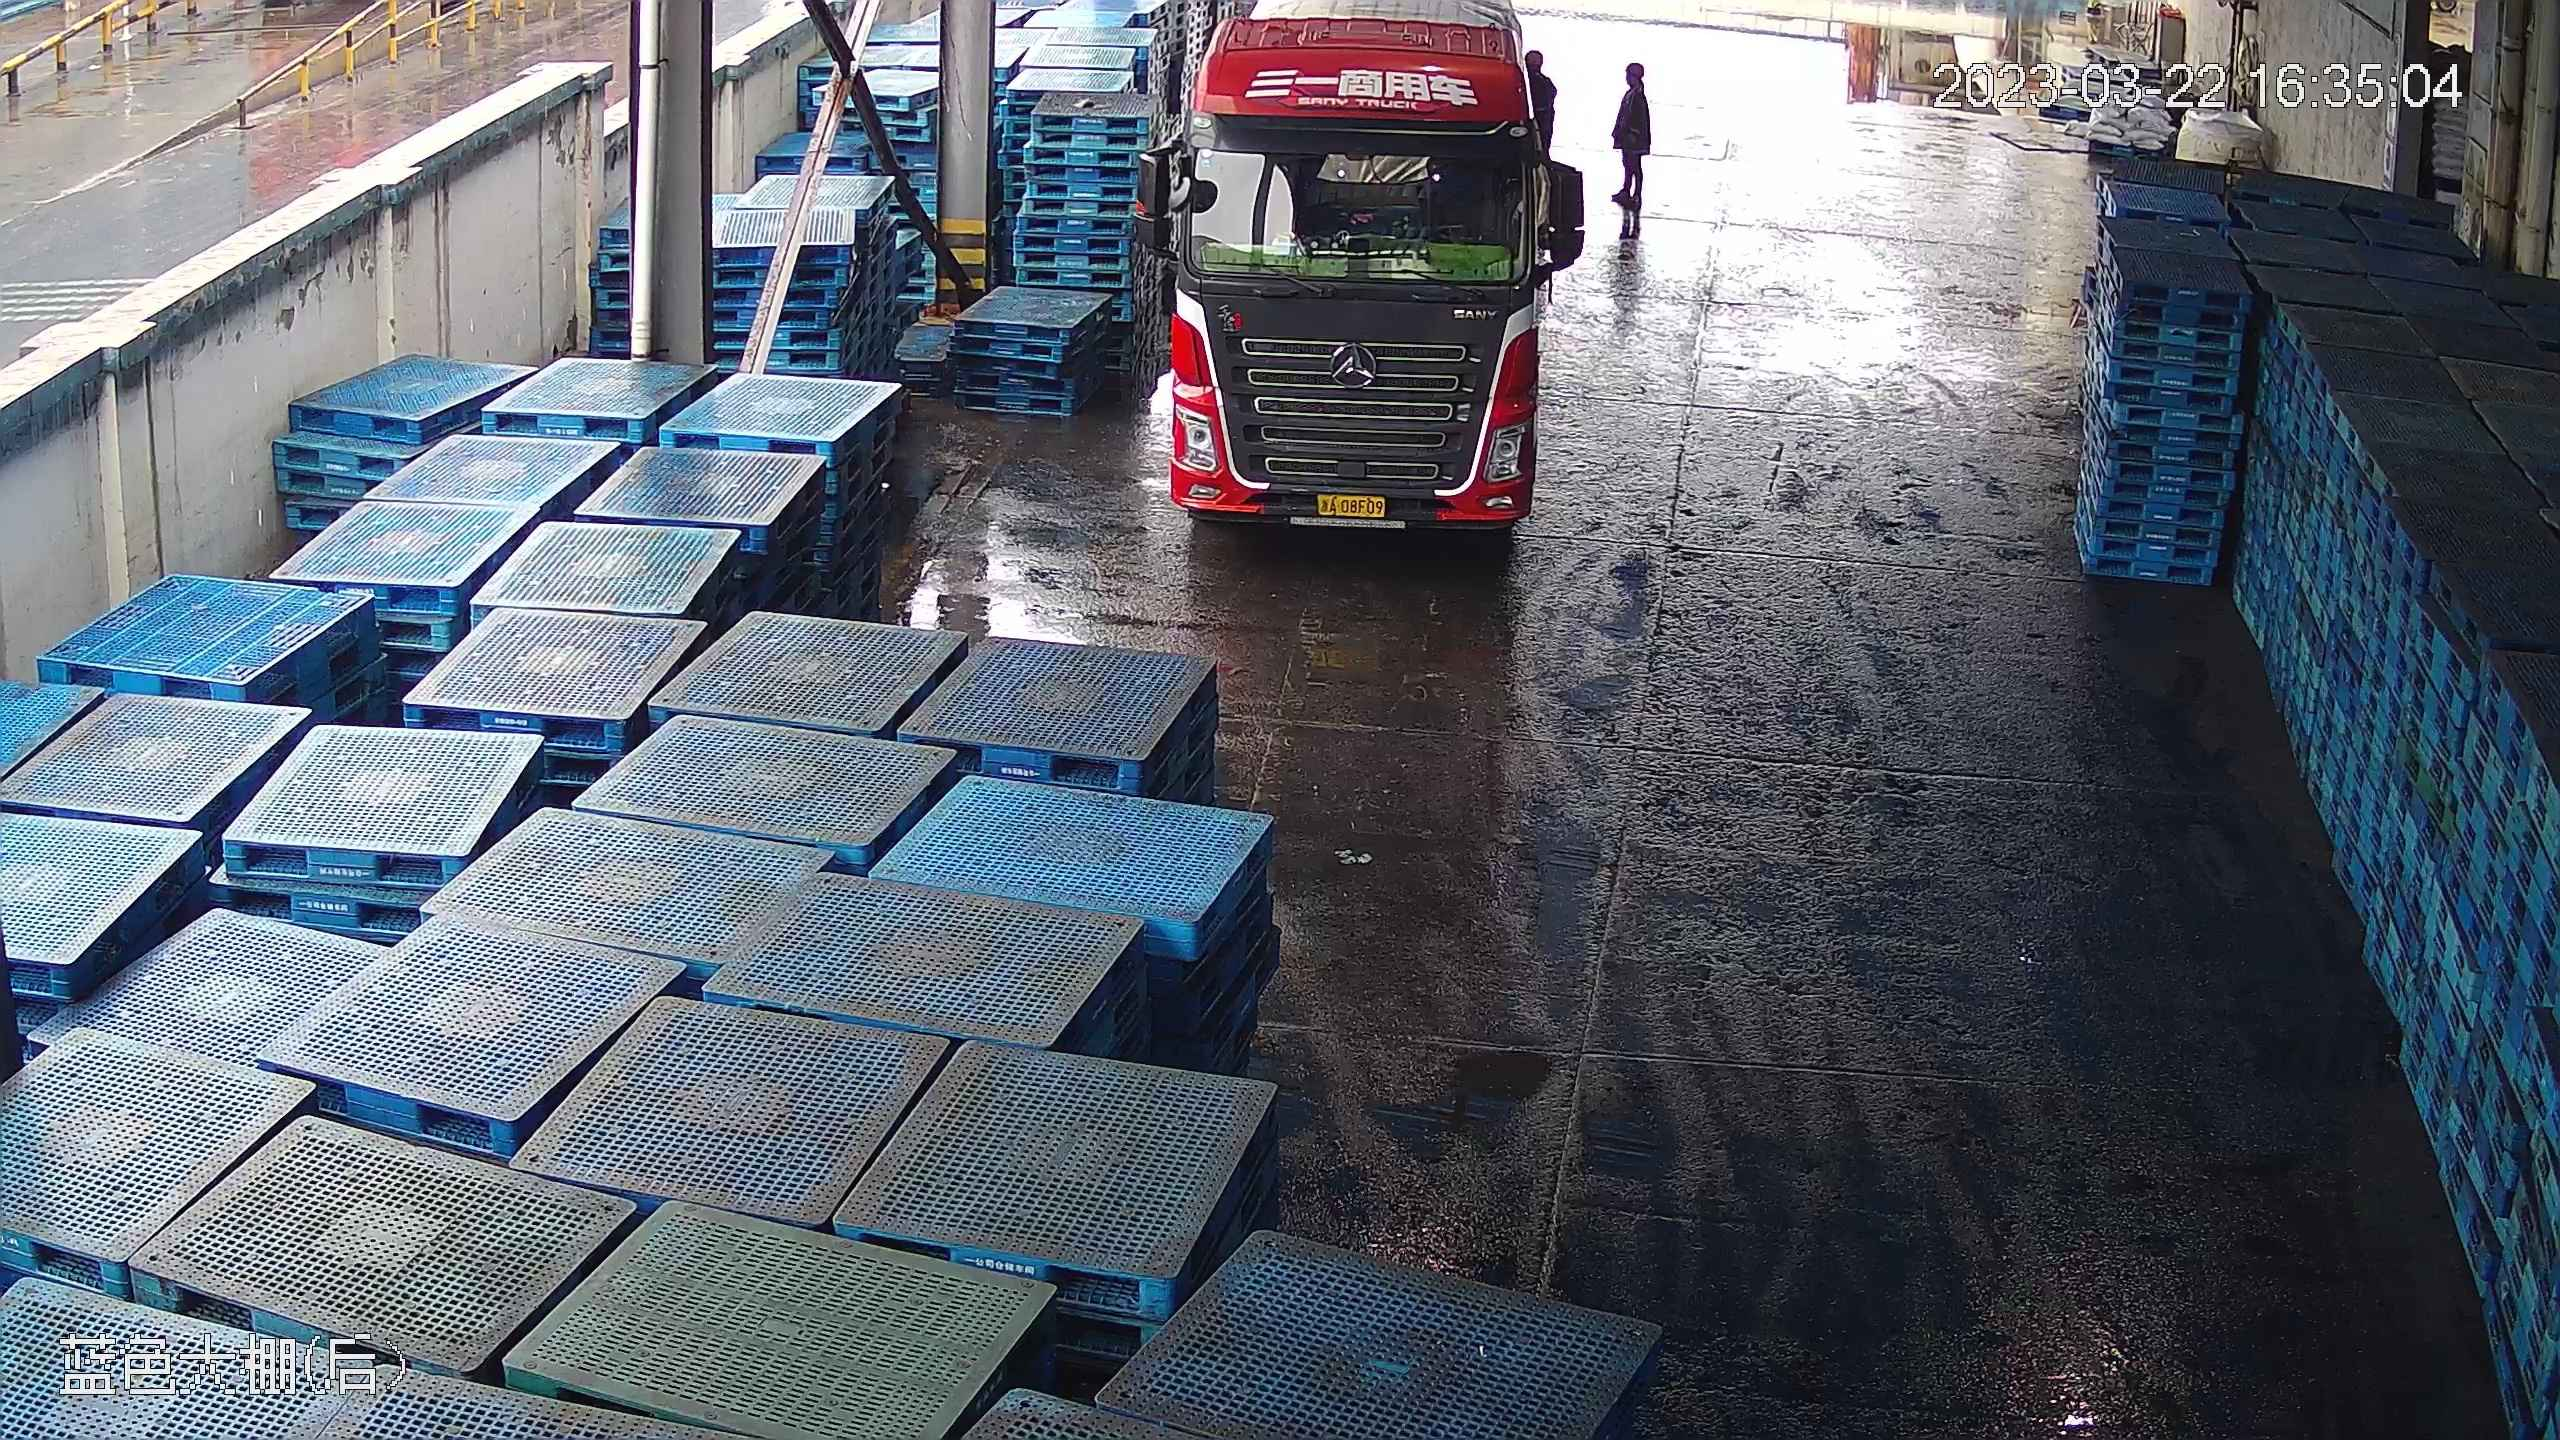head: (1617, 57, 1653, 110)
helmet: (1525, 47, 1544, 70), (1624, 60, 1646, 79)
people: (1604, 53, 1655, 254)
truck: (1146, 1, 1587, 532)
